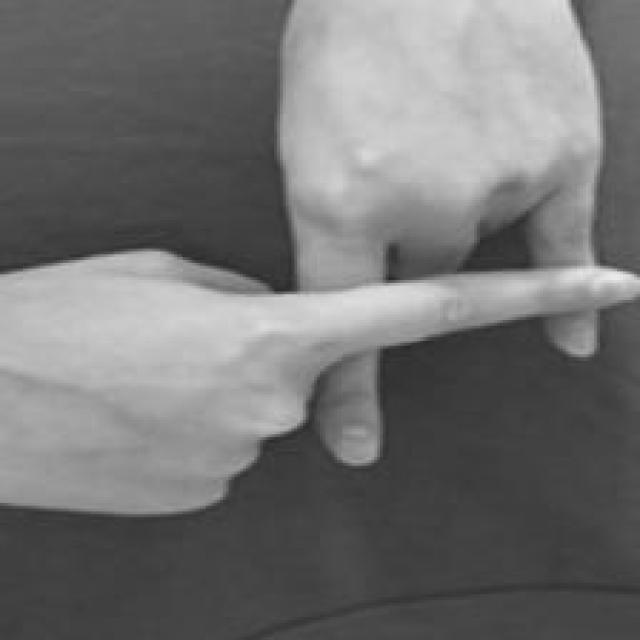H: (0, 2, 640, 520)
